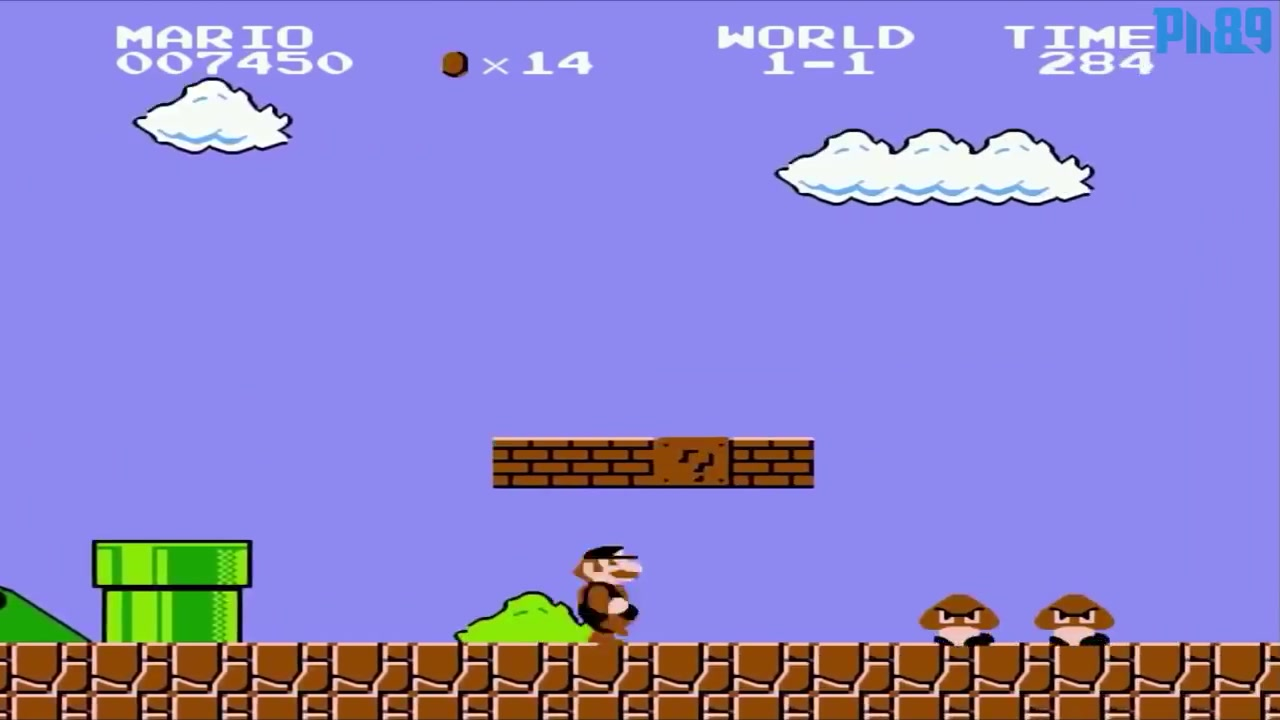mario: (556, 538, 664, 643)
